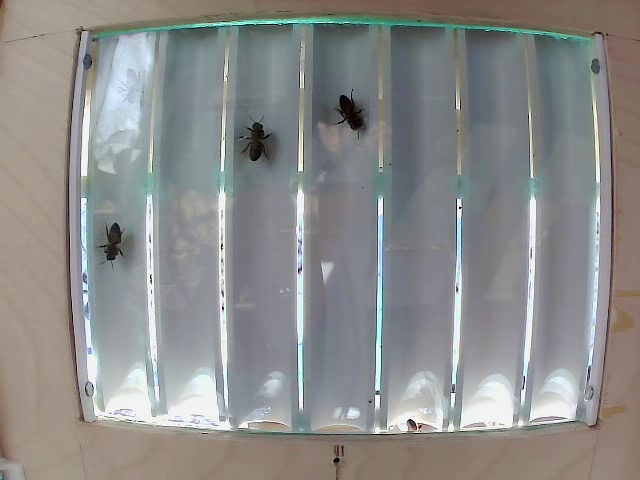bee: (327, 88, 379, 146), (236, 112, 276, 175), (96, 220, 123, 275)
